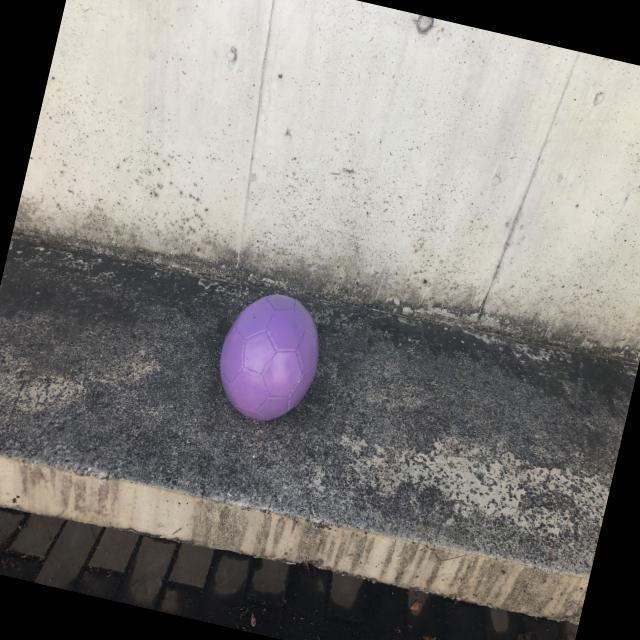purple_ball: (209, 282, 331, 428)
